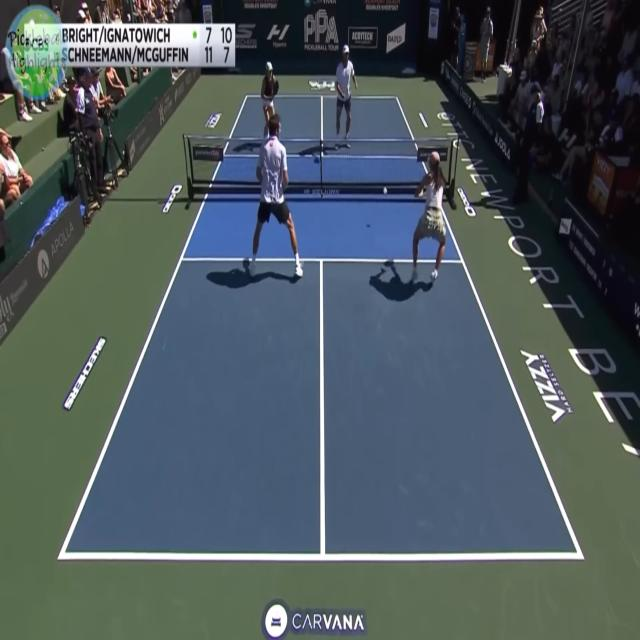ball: (378, 180, 394, 209)
